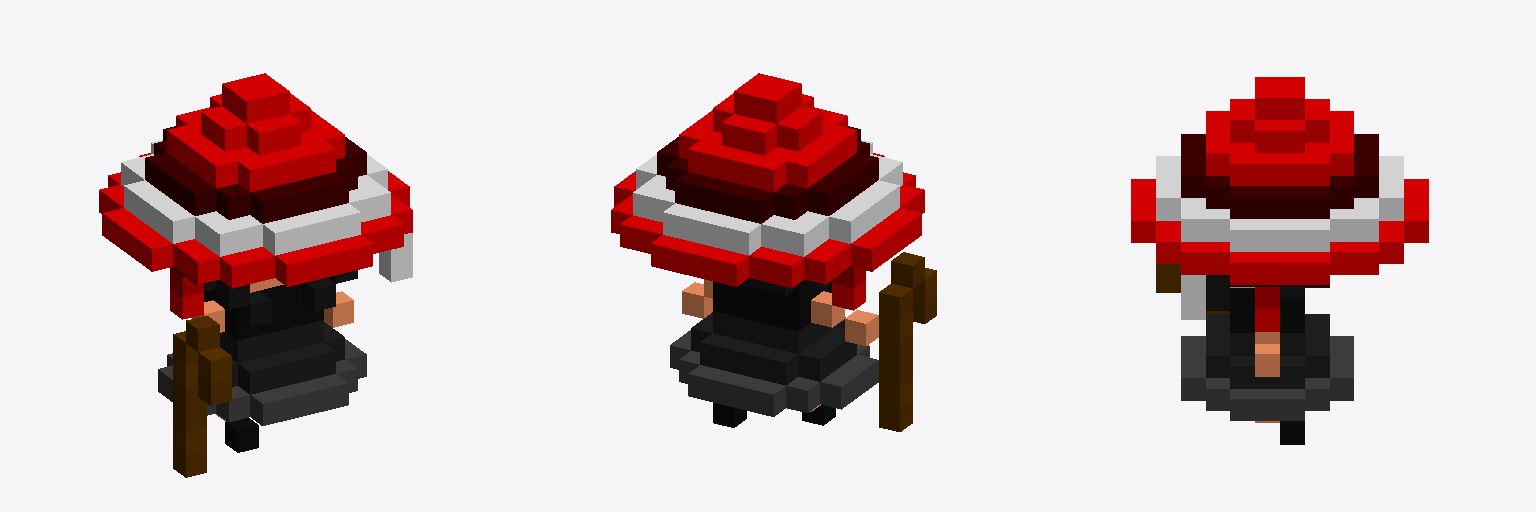
3 views of the same model, side by side, from view 1: azimuth 30°, elevation 25°; view 2: azimuth 150°, elevation 25°; view 3: azimuth 270°, elevation 25° (orthographic).
Bounding box in the file's own units: 12 × 15 × 12.
Materials: 1 (1 with a texture image).